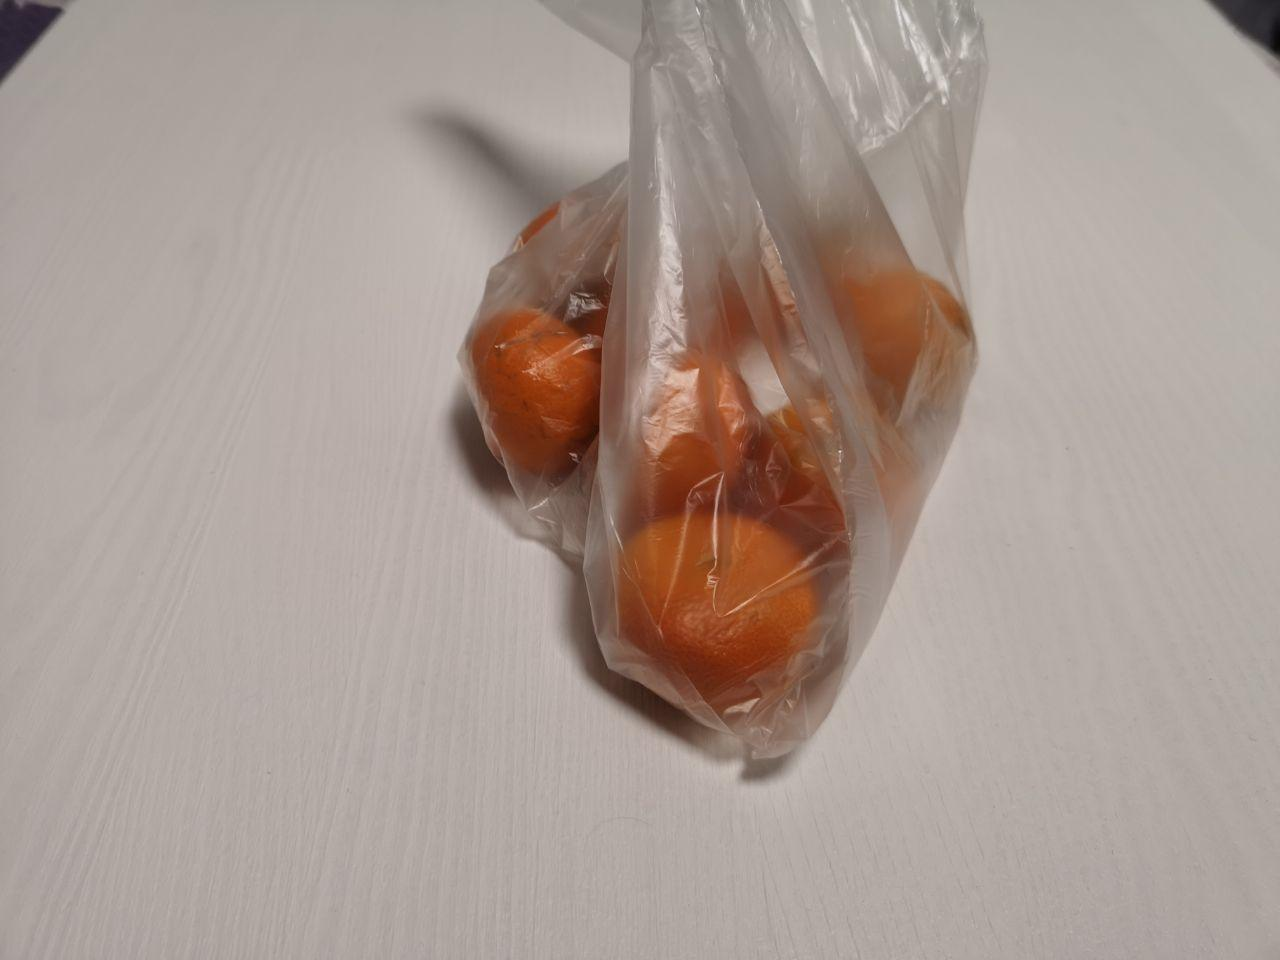clementin: (444, 171, 982, 760)
